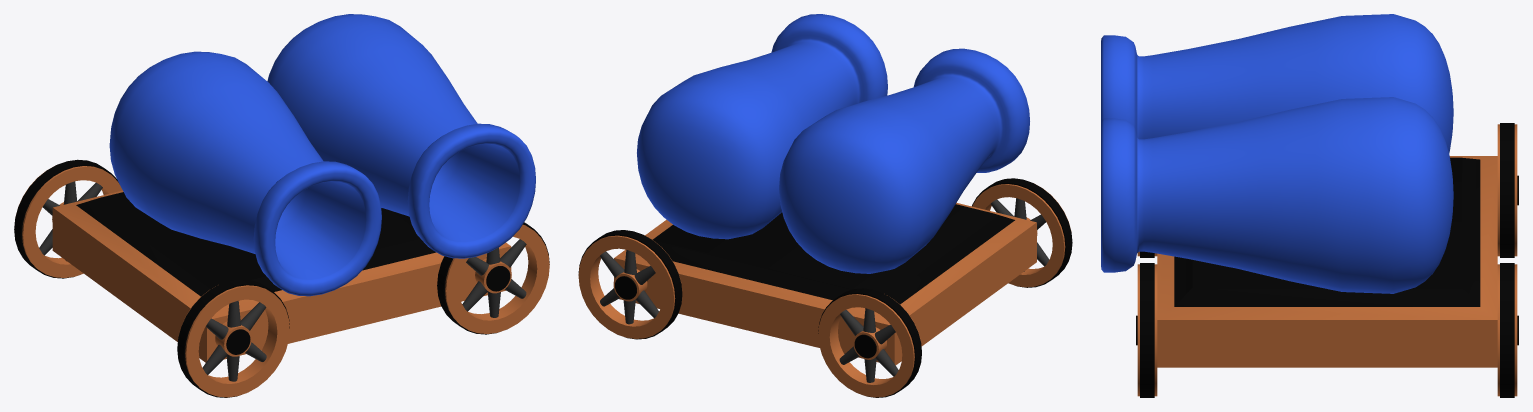
The model's file is Double_Cannon.fbx.
The picture shows the model from 3 angles, left to right: view 1: azimuth 30°, elevation 25°; view 2: azimuth 150°, elevation 25°; view 3: azimuth 270°, elevation 25°; orthographic projection. The views are drawn at different scales.
Parts seen in each view (by area): view 1: Plane.003, Cube.003, Cube.004; view 2: Plane.003, Cube.003, Cube.004; view 3: Cube.004, Plane.003, Cube.003.
Part boxes in pixels (box(x1,y1,x2,y2)): Plane.003: box(14, 159, 549, 397); Cube.003: box(109, 51, 381, 296); Cube.004: box(267, 14, 535, 258); Plane.003: box(578, 178, 1072, 397); Cube.003: box(779, 48, 1029, 273); Cube.004: box(637, 14, 887, 239); Cube.004: box(1101, 97, 1453, 293); Plane.003: box(1136, 123, 1518, 397); Cube.003: box(1101, 14, 1453, 153).
Size of the model in its own units: 2001 by 1252 by 1792.
